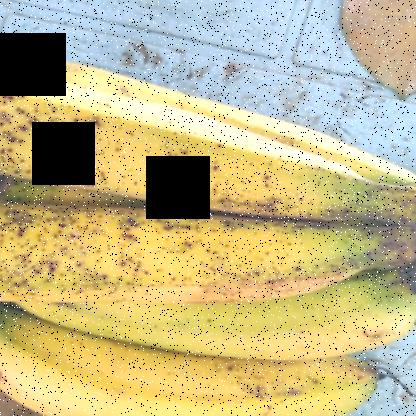ripe: (0, 197, 354, 346), (0, 66, 386, 198), (0, 320, 390, 415)
